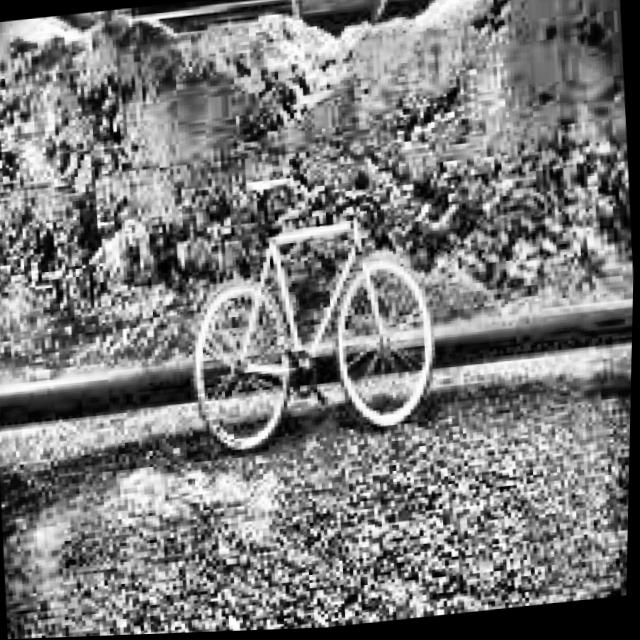bike: (143, 149, 470, 481)
